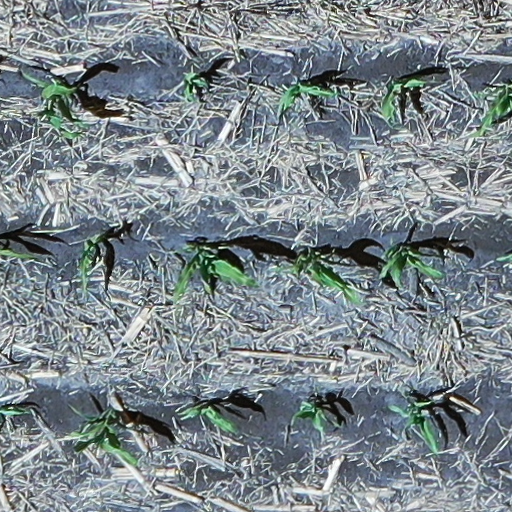planta: (172, 244, 258, 301), (22, 71, 85, 141), (63, 409, 139, 466), (286, 253, 362, 305), (384, 400, 439, 453), (381, 246, 441, 287), (381, 77, 426, 120), (277, 82, 339, 111), (174, 405, 235, 432), (77, 236, 100, 299), (290, 402, 325, 430), (182, 71, 205, 101)
